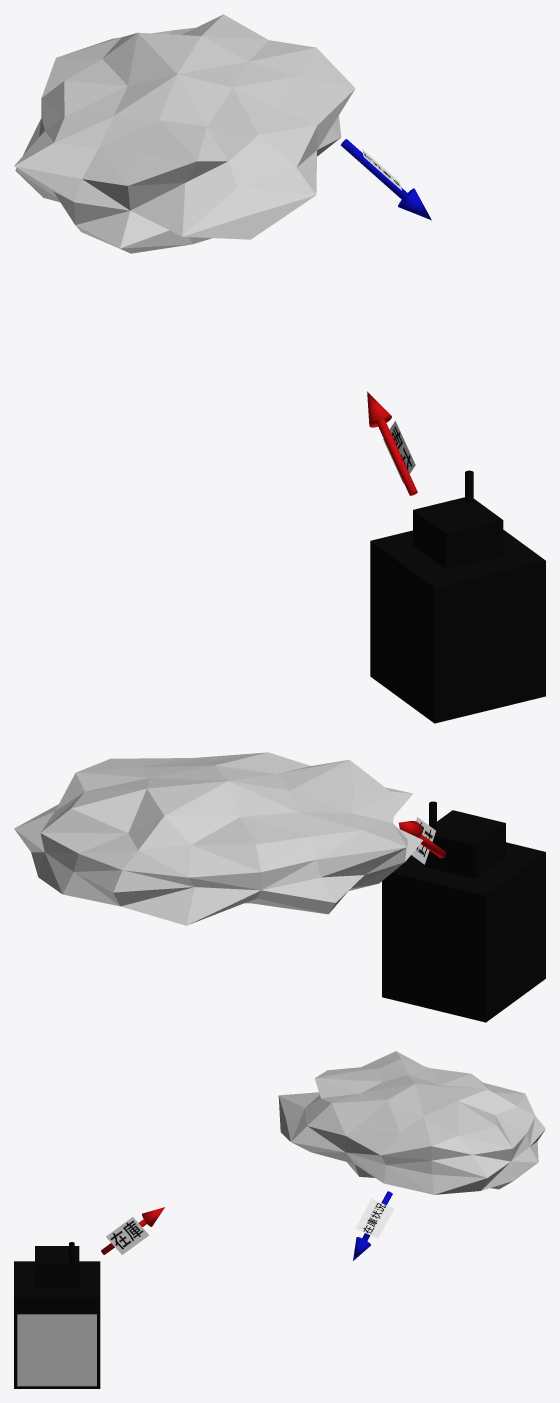
3 views of the same model, one above another, from view 1: azimuth 30°, elevation 25°; view 2: azimuth 150°, elevation 25°; view 3: azimuth 270°, elevation 25° (orthographic). The views are drawn at different scales.
Parts seen in each view (by area): view 1: cloud, sansa hontai, yazirusi1, yazirusi1.001; view 2: cloud, sansa hontai, yazirusi1; view 3: cloud, sansa hontai, sensa setumei, yazirusi1.001, yazirusi1.
Boxes of the visible parts, <box> form: cloud: <box>14,14,355,253</box>; sansa hontai: <box>370,497,545,723</box>; yazirusi1: <box>367,391,417,495</box>; yazirusi1.001: <box>340,139,431,220</box>; cloud: <box>14,752,422,925</box>; sansa hontai: <box>382,810,545,1022</box>; yazirusi1: <box>399,817,445,864</box>; cloud: <box>278,1051,545,1194</box>; sansa hontai: <box>14,1246,100,1388</box>; sensa setumei: <box>17,1314,96,1386</box>; yazirusi1.001: <box>353,1191,394,1260</box>; yazirusi1: <box>101,1207,164,1254</box>.
Size of the model in its own units: 2.14 by 2.24 by 3.81.
